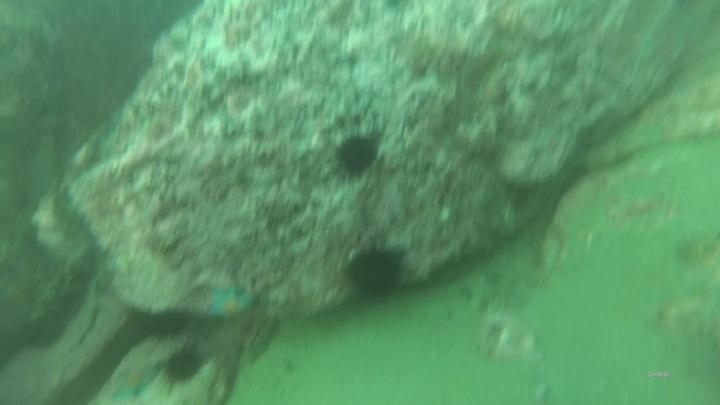echinus: (344, 237, 408, 306), (331, 128, 384, 180), (162, 339, 207, 394)
starfish: (207, 281, 260, 324), (112, 360, 161, 400)
